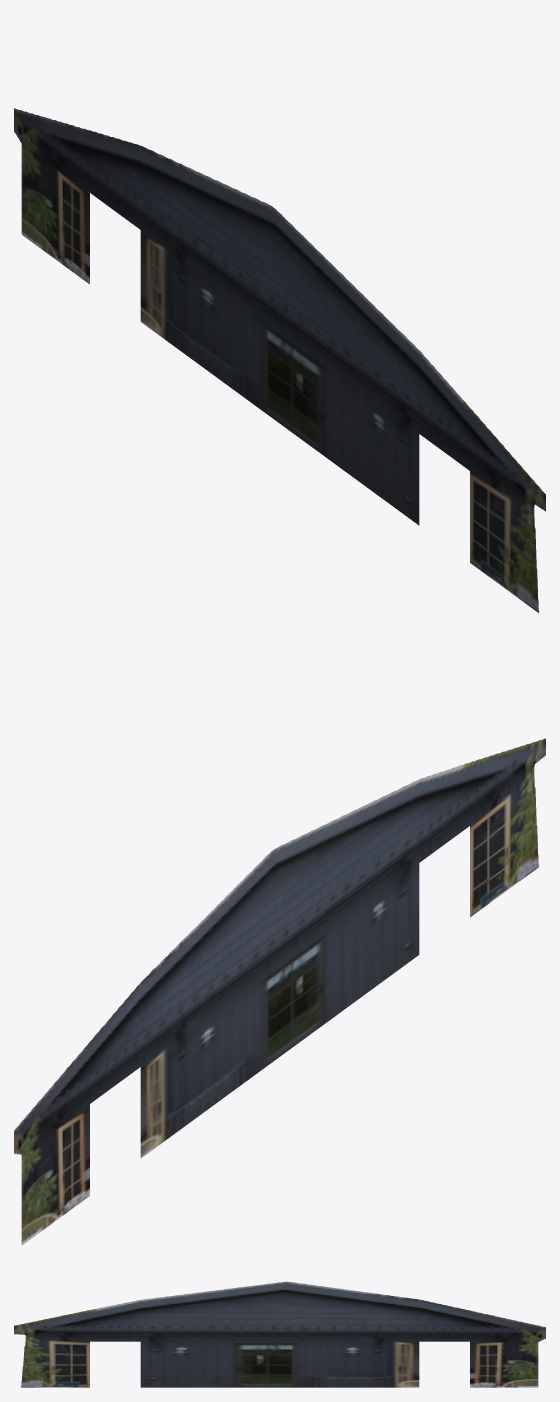
Rendered from BackYard.fbx.
The picture shows the model from 3 angles, top to bottom: view 1: azimuth 30°, elevation 25°; view 2: azimuth 150°, elevation 25°; view 3: azimuth 270°, elevation 25°; orthographic projection. The views are drawn at different scales.
Visible parts, largest first — view 1: Plane.001; view 2: Plane.001; view 3: Plane.001.
Boxes of the visible parts, x1,y1,x2,y2 form: Plane.001: (14,108,545,612); Plane.001: (14,738,545,1245); Plane.001: (14,1281,545,1387).
Bounding box in the file's own units: 0.000143 × 467 × 2100.
